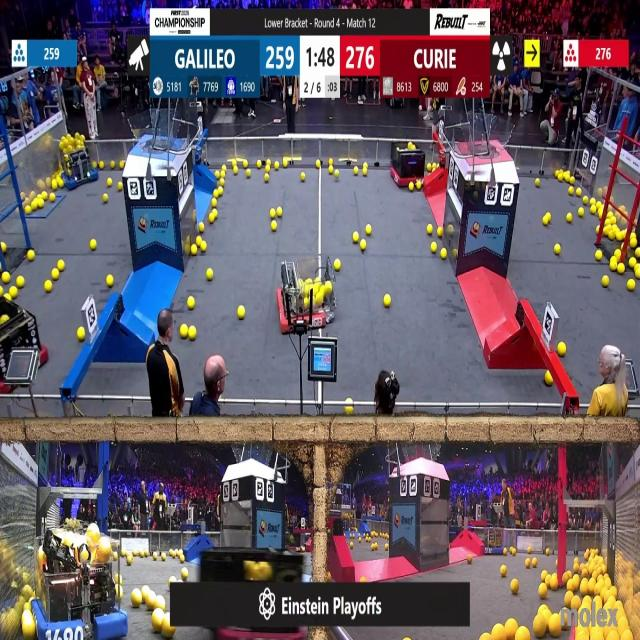ball_airborne: (90, 525, 100, 540)
ball_ground: (549, 619, 562, 639), (24, 622, 36, 640), (152, 613, 162, 634), (164, 619, 174, 638), (133, 592, 143, 608), (518, 628, 530, 639), (512, 580, 520, 596), (538, 586, 547, 600), (544, 372, 552, 387), (146, 598, 156, 610), (570, 596, 579, 609), (558, 343, 566, 357), (187, 326, 195, 340), (564, 594, 572, 607), (550, 579, 558, 592), (77, 327, 84, 341), (628, 280, 636, 292), (238, 307, 246, 319), (630, 236, 638, 248), (16, 277, 24, 288), (2, 273, 10, 284), (107, 275, 114, 287), (187, 296, 194, 308), (384, 294, 391, 306), (180, 325, 187, 337), (44, 280, 51, 292), (10, 286, 17, 298), (180, 569, 188, 579), (629, 257, 637, 267), (36, 200, 44, 210), (539, 571, 547, 581), (602, 276, 609, 287), (555, 244, 562, 255), (51, 270, 58, 281), (335, 261, 342, 272), (0, 243, 7, 254), (610, 260, 616, 272), (346, 408, 354, 417), (542, 213, 548, 225), (59, 262, 66, 272), (619, 265, 626, 275), (189, 245, 196, 255), (92, 240, 98, 251), (207, 270, 213, 281), (29, 250, 35, 261), (596, 250, 602, 261), (352, 233, 358, 244), (500, 565, 506, 576), (51, 179, 57, 190), (272, 220, 278, 230), (442, 249, 448, 259), (364, 224, 370, 234), (436, 228, 442, 238), (201, 242, 207, 252), (271, 208, 277, 218), (635, 268, 640, 280), (564, 172, 570, 182), (555, 170, 561, 180), (524, 560, 531, 568), (482, 633, 490, 640), (93, 163, 100, 171), (427, 223, 432, 234), (577, 208, 583, 217), (212, 199, 218, 208), (566, 213, 572, 222), (299, 173, 305, 182), (209, 214, 215, 223), (616, 249, 622, 258), (26, 206, 32, 215), (214, 187, 220, 196), (602, 226, 608, 235), (360, 241, 365, 251), (467, 554, 472, 564), (532, 558, 537, 568), (431, 243, 436, 253), (60, 179, 65, 189), (128, 556, 133, 566), (243, 162, 249, 170), (246, 170, 252, 178), (110, 162, 116, 170), (194, 237, 200, 245), (596, 225, 602, 233), (370, 542, 376, 550), (107, 178, 112, 187), (103, 193, 108, 202), (410, 182, 415, 191), (200, 222, 205, 231), (568, 186, 573, 195), (277, 208, 282, 217), (569, 175, 574, 184), (449, 224, 454, 233), (584, 198, 590, 205), (316, 162, 321, 170), (180, 556, 185, 564), (362, 168, 367, 176), (219, 178, 224, 186), (417, 182, 422, 190), (100, 162, 105, 170), (49, 192, 54, 200), (275, 164, 280, 172), (538, 182, 543, 190), (635, 248, 640, 256), (256, 162, 261, 170), (162, 554, 167, 562), (0, 286, 4, 296), (608, 232, 613, 240), (453, 248, 458, 256), (535, 178, 539, 187), (592, 207, 596, 216), (360, 575, 365, 582), (234, 168, 239, 175), (266, 167, 271, 174), (215, 172, 220, 179), (336, 171, 341, 178), (152, 554, 157, 561), (575, 188, 580, 195), (170, 551, 175, 558), (120, 185, 124, 193), (354, 168, 358, 176), (119, 162, 123, 170), (513, 549, 517, 557), (284, 162, 288, 170), (266, 175, 270, 182), (328, 168, 332, 175), (528, 545, 532, 552), (328, 160, 332, 167), (544, 550, 548, 557), (503, 550, 507, 557), (385, 543, 389, 549), (170, 575, 173, 583)
goal: (460, 118, 517, 158), (130, 116, 187, 151)
robot_blue: (37, 519, 127, 637), (54, 134, 98, 190), (483, 528, 506, 554)
robot_red: (213, 556, 304, 638), (280, 258, 337, 328), (0, 301, 41, 391), (391, 140, 426, 188)
